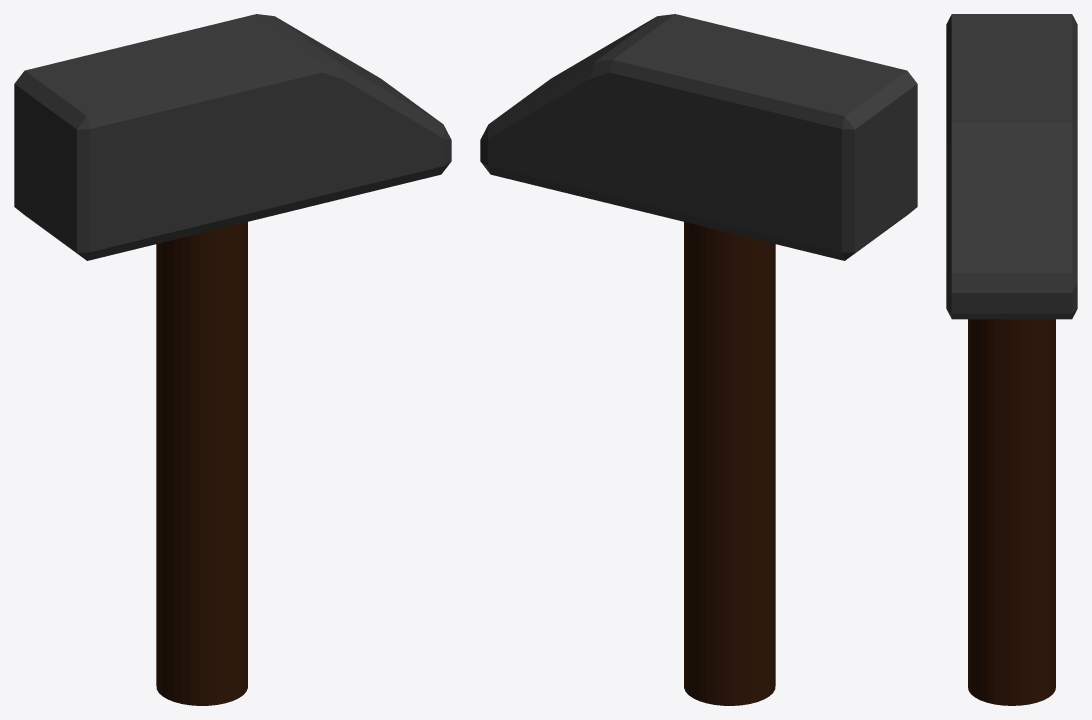
File: hammer.fbx
The picture shows the model from 3 angles, left to right: view 1: azimuth 30°, elevation 25°; view 2: azimuth 150°, elevation 25°; view 3: azimuth 270°, elevation 25°; orthographic projection. The views are drawn at different scales.
Parts seen in each view (by area): view 1: Cube, Cylinder; view 2: Cube, Cylinder; view 3: Cube, Cylinder.
Part boxes in pixels (box(x1,y1,x2,y2)): Cube: box(14, 14, 451, 260); Cylinder: box(156, 222, 247, 705); Cube: box(480, 14, 917, 260); Cylinder: box(684, 222, 775, 705); Cube: box(946, 14, 1077, 319); Cylinder: box(968, 319, 1055, 705).
Bounding box in the file's own units: 297 × 476 × 93.51.
